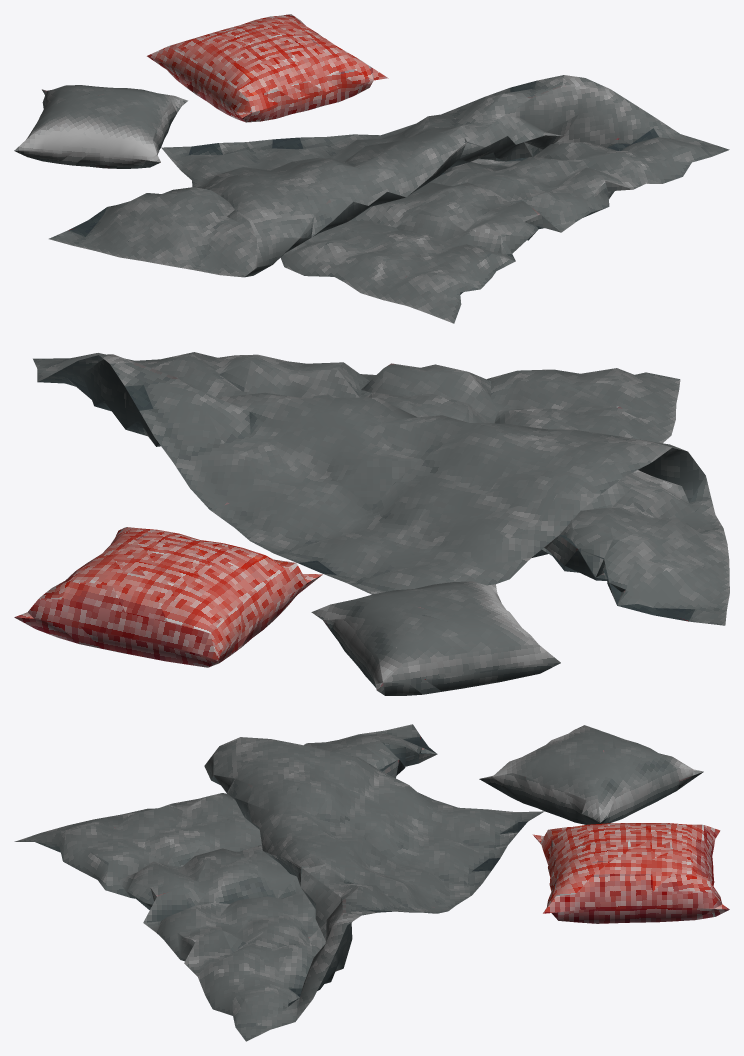
File: blanket_pillows.glb
The picture shows the model from 3 angles, top to bottom: view 1: azimuth 30°, elevation 25°; view 2: azimuth 150°, elevation 25°; view 3: azimuth 270°, elevation 25°; orthographic projection. The views are drawn at different scales.
Visible parts, largest first — view 1: mesh; view 2: mesh; view 3: mesh.
Part boxes in pixels (x1,y1,x2,y2): mesh: [14, 14, 729, 323]; mesh: [14, 352, 729, 695]; mesh: [14, 724, 729, 1041].
Size of the model in its own units: 2.91 by 0.2998 by 2.79.
1 material, 1 textured.
